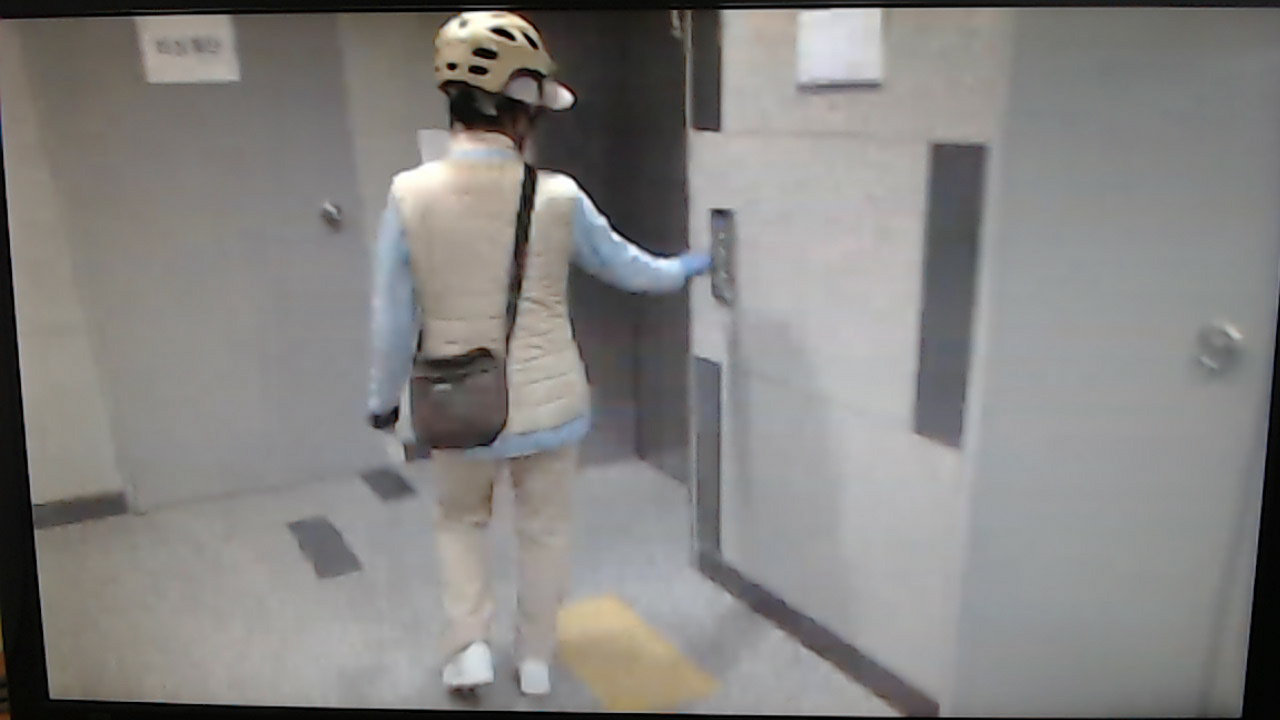Yakurut: (357, 13, 715, 707)
